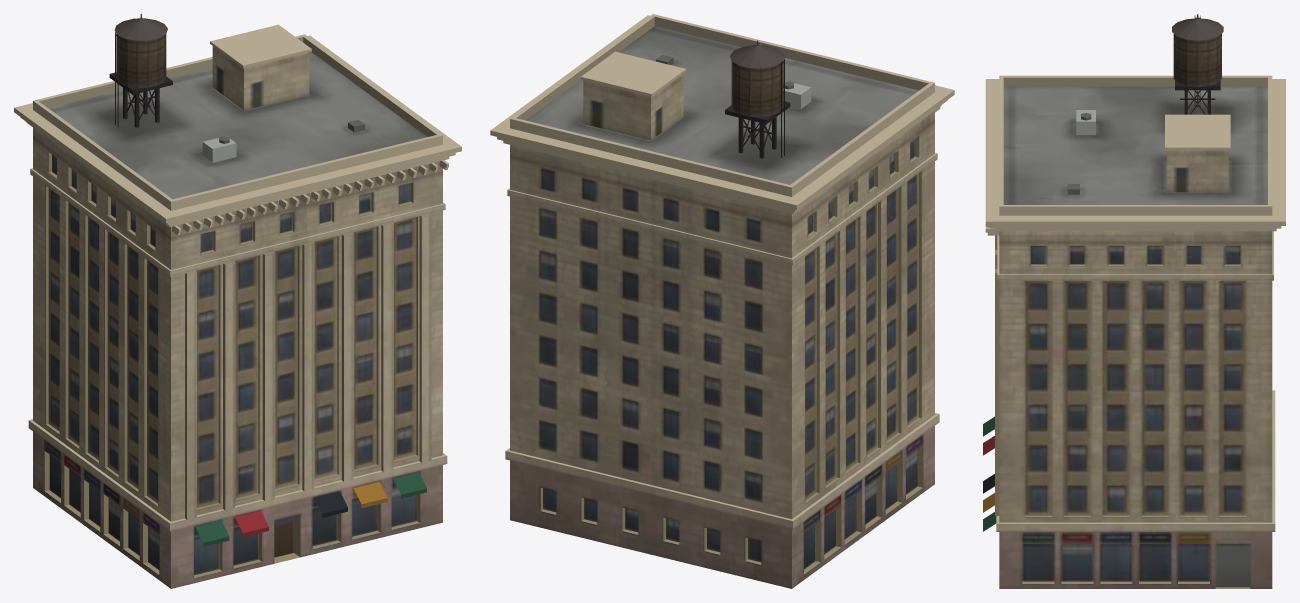
File: nyc_limestone_b.glb
The picture shows the model from 3 angles, left to right: view 1: azimuth 30°, elevation 25°; view 2: azimuth 150°, elevation 25°; view 3: azimuth 270°, elevation 25°; orthographic projection. The views are drawn at different scales.
Parts seen in each view (by area): view 1: nyc_limestone_b; view 2: nyc_limestone_b; view 3: nyc_limestone_b.
Boxes of the visible parts, left/top/right/bottom form: nyc_limestone_b: left=14, top=14, right=461, bottom=588; nyc_limestone_b: left=490, top=14, right=954, bottom=588; nyc_limestone_b: left=983, top=14, right=1285, bottom=588.
Size of the model in its own units: 27.2 by 42.5 by 24.4.
Materials: 1 (1 with a texture image).
